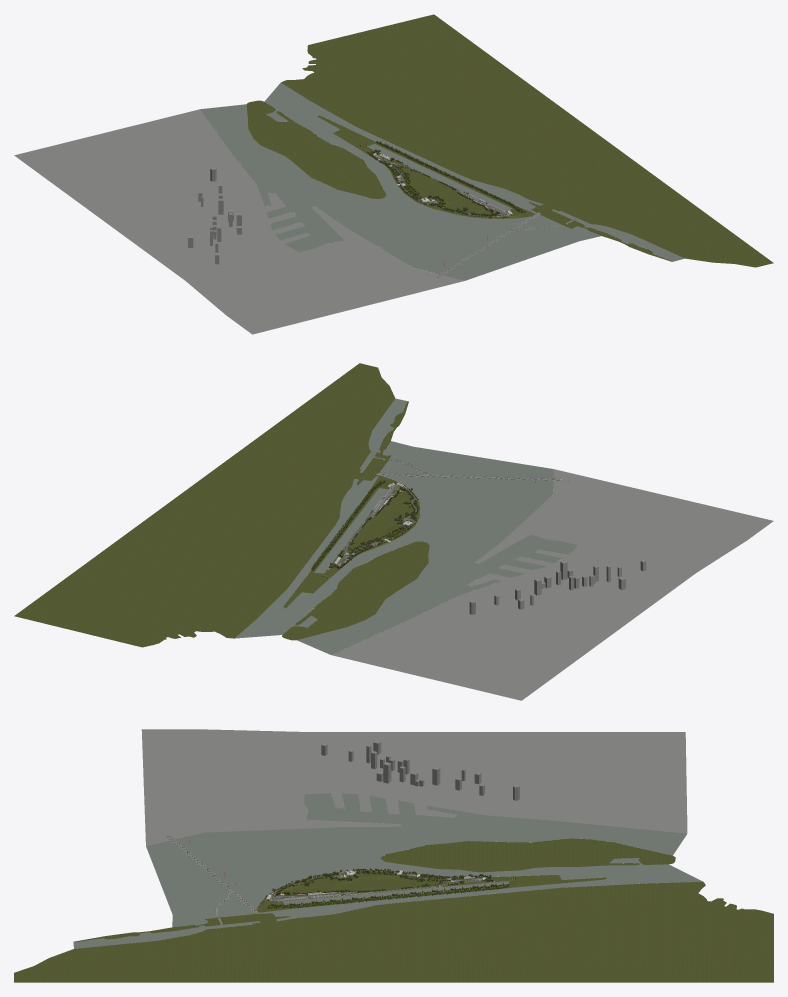
The model's file is circuit_gilles_villeneuve_montreal_2019_layout-optimized-optimized.glb.
The picture shows the model from 3 angles, top to bottom: view 1: azimuth 30°, elevation 25°; view 2: azimuth 150°, elevation 25°; view 3: azimuth 270°, elevation 25°; orthographic projection. The views are drawn at different scales.
Parts seen in each view (by area): view 1: montreal_0; view 2: montreal_0; view 3: montreal_0.
Boxes of the visible parts, <box> form: montreal_0: <box>14,14,773,334</box>; montreal_0: <box>14,363,773,700</box>; montreal_0: <box>14,729,773,982</box>.
Size of the model in its own units: 5714 by 300 by 7242.
25 materials, 24 textured.
